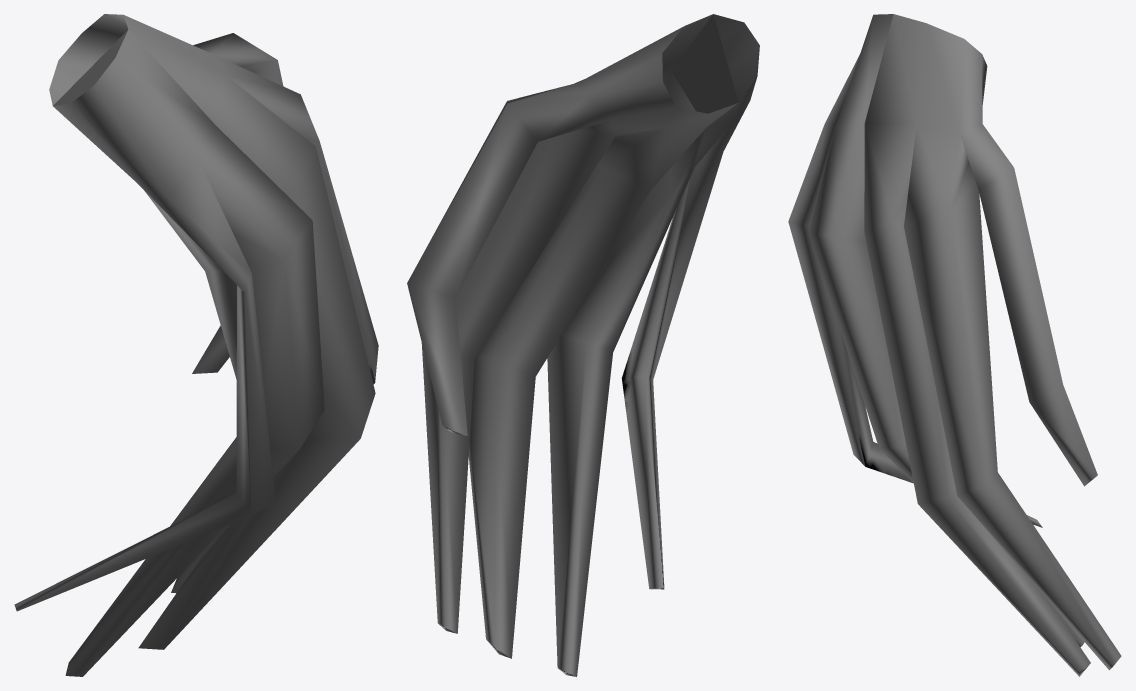
The model's file is lefthand1.obj.
3 views of the same model, side by side, from view 1: azimuth 30°, elevation 25°; view 2: azimuth 150°, elevation 25°; view 3: azimuth 270°, elevation 25° (orthographic). The views are drawn at different scales.
Parts seen in each view (by area): view 1: body; view 2: body; view 3: body.
Boxes of the visible parts, box(x1,y1,x2,y2) form: body: box(14, 14, 378, 676); body: box(407, 14, 759, 676); body: box(788, 14, 1121, 676).
Size of the model in its own units: 17.08 by 33.8 by 16.78.
Materials: 1 (1 with a texture image).
